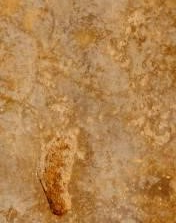Corrosion: (42, 143, 71, 216)
Spalling: (38, 126, 80, 217)
